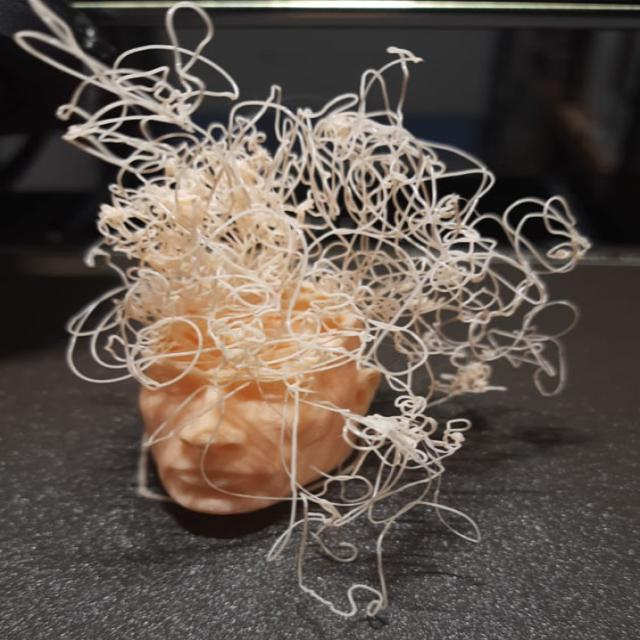spaghetti: (70, 49, 441, 277), (450, 178, 602, 386), (80, 292, 326, 402), (364, 354, 483, 535)
